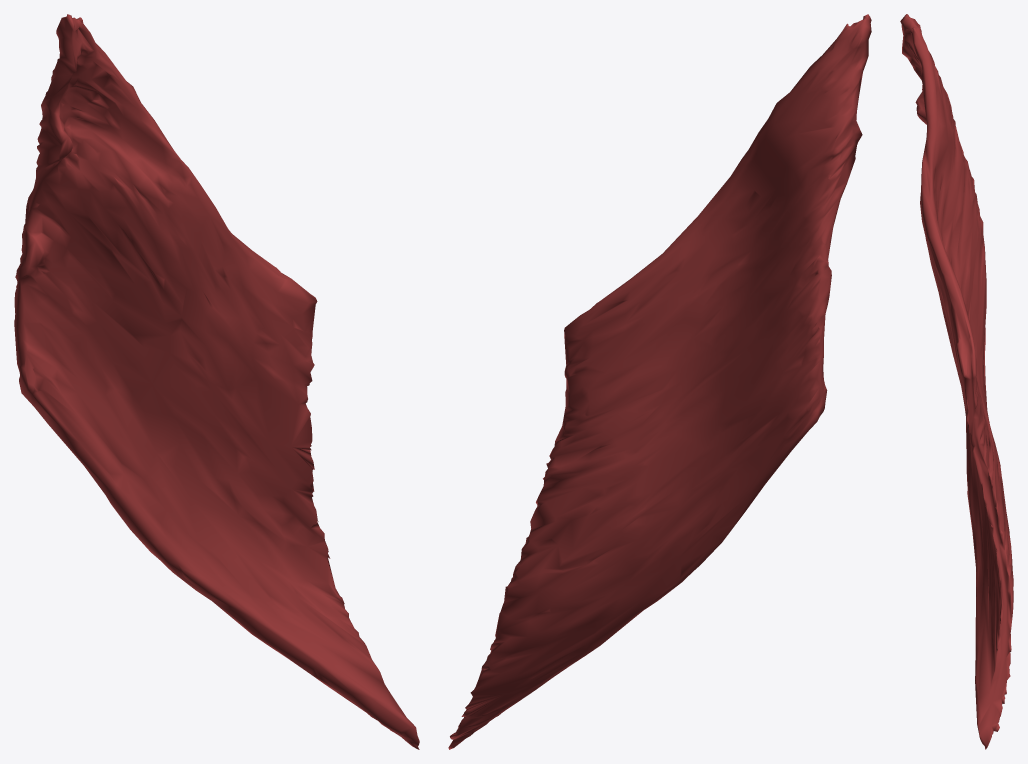
Rendered from rhomboid-major-muscle-l.glb.
3 renders of one model, left to right at view 1: azimuth 30°, elevation 25°; view 2: azimuth 150°, elevation 25°; view 3: azimuth 270°, elevation 25°, orthographic. The views are drawn at different scales.
Parts seen in each view (by area): view 1: Rhomboid major muscle.l; view 2: Rhomboid major muscle.l; view 3: Rhomboid major muscle.l.
Boxes of the visible parts, left/top/right/bottom form: Rhomboid major muscle.l: left=14, top=14, right=419, bottom=749; Rhomboid major muscle.l: left=448, top=14, right=871, bottom=749; Rhomboid major muscle.l: left=900, top=14, right=1013, bottom=749.
Bounding box in the file's own units: 0.0885 × 0.1801 × 0.0309.
